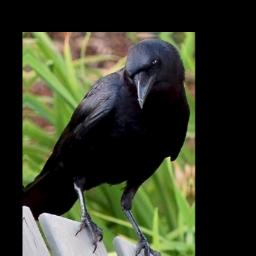Crow: (23, 36, 192, 256)
